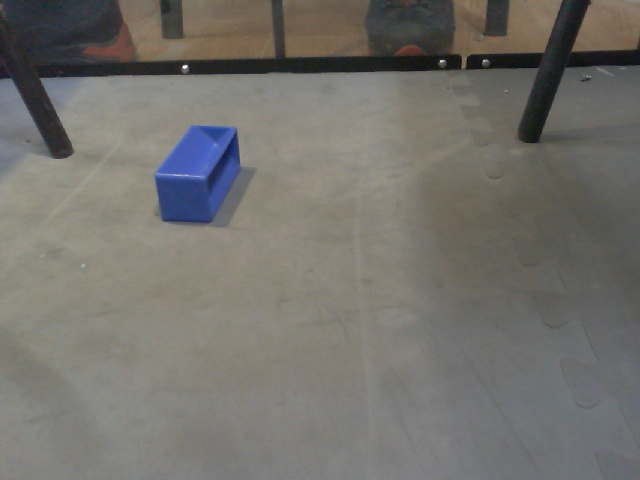BlueSample: (150, 120, 244, 227)
